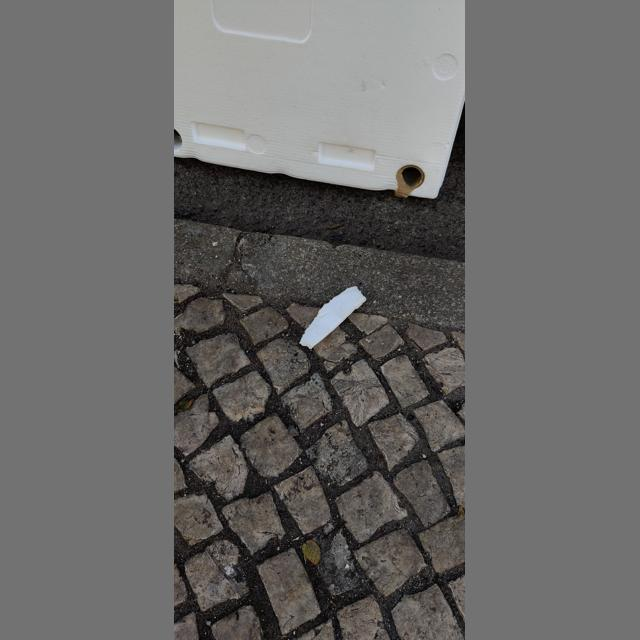litter: (174, 0, 465, 199), (299, 286, 366, 349), (395, 166, 425, 198)
